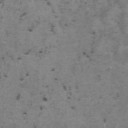oxide scale of temperature system: (16, 0, 126, 115), (0, 0, 64, 61), (112, 93, 120, 100), (19, 76, 24, 81)
